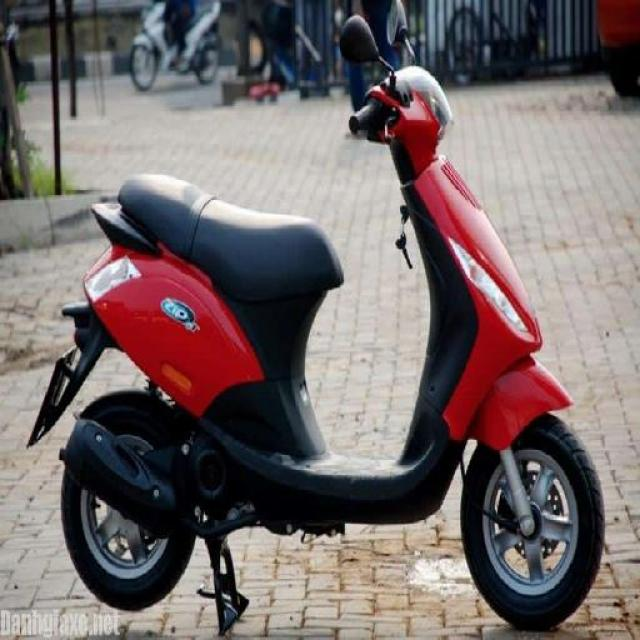All: (17, 67, 607, 628)
Head: (349, 70, 457, 155)
Tail: (72, 173, 167, 261)
